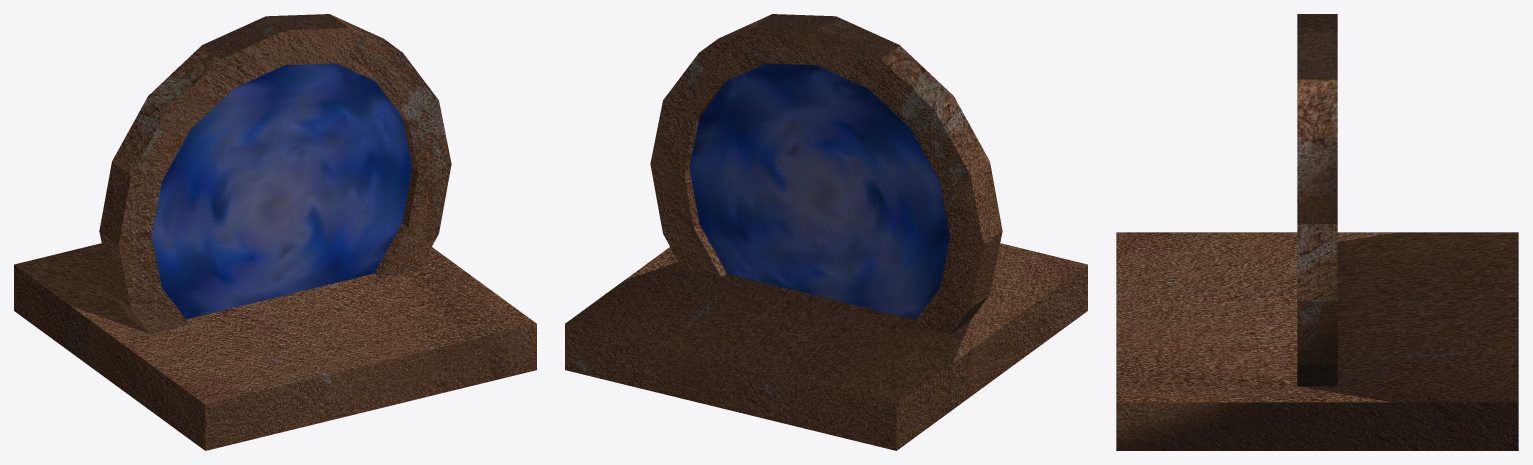
File: stoneportal.glb
3 views of the same model, side by side, from view 1: azimuth 30°, elevation 25°; view 2: azimuth 150°, elevation 25°; view 3: azimuth 270°, elevation 25° (orthographic). The views are drawn at different scales.
Parts seen in each view (by area): view 1: Portal; view 2: Portal; view 3: Portal.
Boxes of the visible parts, left/top/right/bottom form: Portal: left=14, top=14, right=536, bottom=450; Portal: left=565, top=14, right=1087, bottom=450; Portal: left=1116, top=14, right=1518, bottom=450.
Bounding box in the file's own units: 2 × 2 × 1.99.
1 material, 1 textured.
